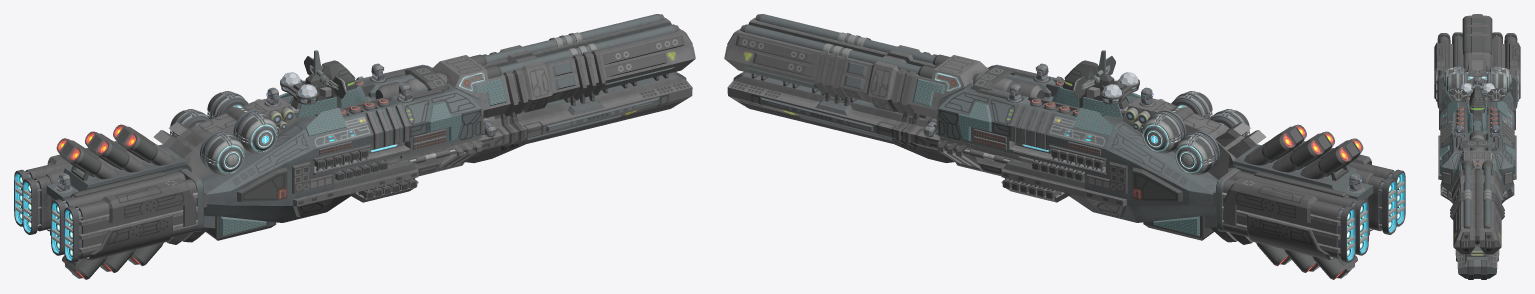
The picture shows the model from 3 angles, left to right: view 1: azimuth 30°, elevation 25°; view 2: azimuth 150°, elevation 25°; view 3: azimuth 270°, elevation 25°; orthographic projection. The views are drawn at different scales.
Visible parts, largest first — view 1: SUP_9f5f51f18e4c487b9e4d1643ff36acd3; view 2: SUP_9f5f51f18e4c487b9e4d1643ff36acd3; view 3: SUP_9f5f51f18e4c487b9e4d1643ff36acd3.
Boxes of the visible parts, left/top/right/bottom form: SUP_9f5f51f18e4c487b9e4d1643ff36acd3: left=14, top=14, right=695, bottom=279; SUP_9f5f51f18e4c487b9e4d1643ff36acd3: left=724, top=14, right=1405, bottom=279; SUP_9f5f51f18e4c487b9e4d1643ff36acd3: left=1434, top=14, right=1520, bottom=279.
Size of the model in its own units: 254 by 63.5 by 44.36.
4 materials, 4 textured.
